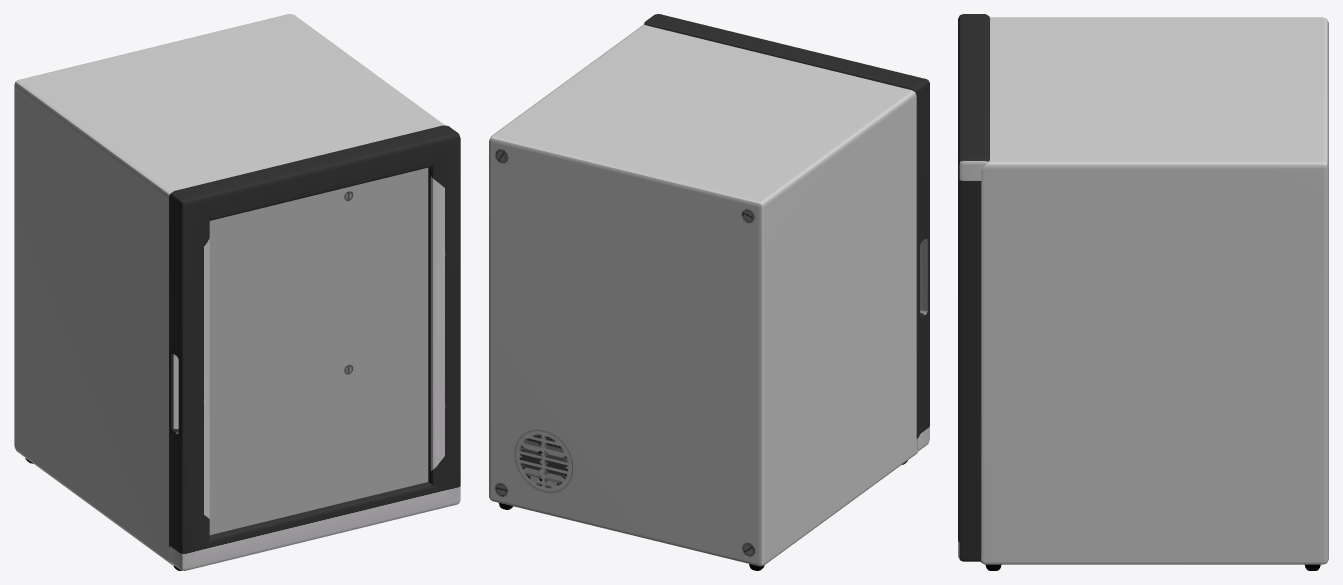
The model's file is mini fridge.glb.
3 renders of one model, left to right at view 1: azimuth 30°, elevation 25°; view 2: azimuth 150°, elevation 25°; view 3: azimuth 270°, elevation 25°, orthographic. The views are drawn at different scales.
Parts seen in each view (by area): view 1: Fridge_Door, Fridge; view 2: Fridge, Fridge_Door; view 3: Fridge, Fridge_Door.
Boxes of the visible parts, x1,y1,x2,y2 form: Fridge_Door: (169,125,460,570); Fridge: (14,14,444,570); Fridge: (489,24,917,570); Fridge_Door: (644,14,929,451); Fridge: (980,17,1328,570); Fridge_Door: (958,14,989,561).
Bounding box in the file's own units: 0.7767 × 1.01 × 0.8171.
1 material, 1 textured.
